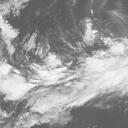cyclone: (34, 55, 107, 110)
